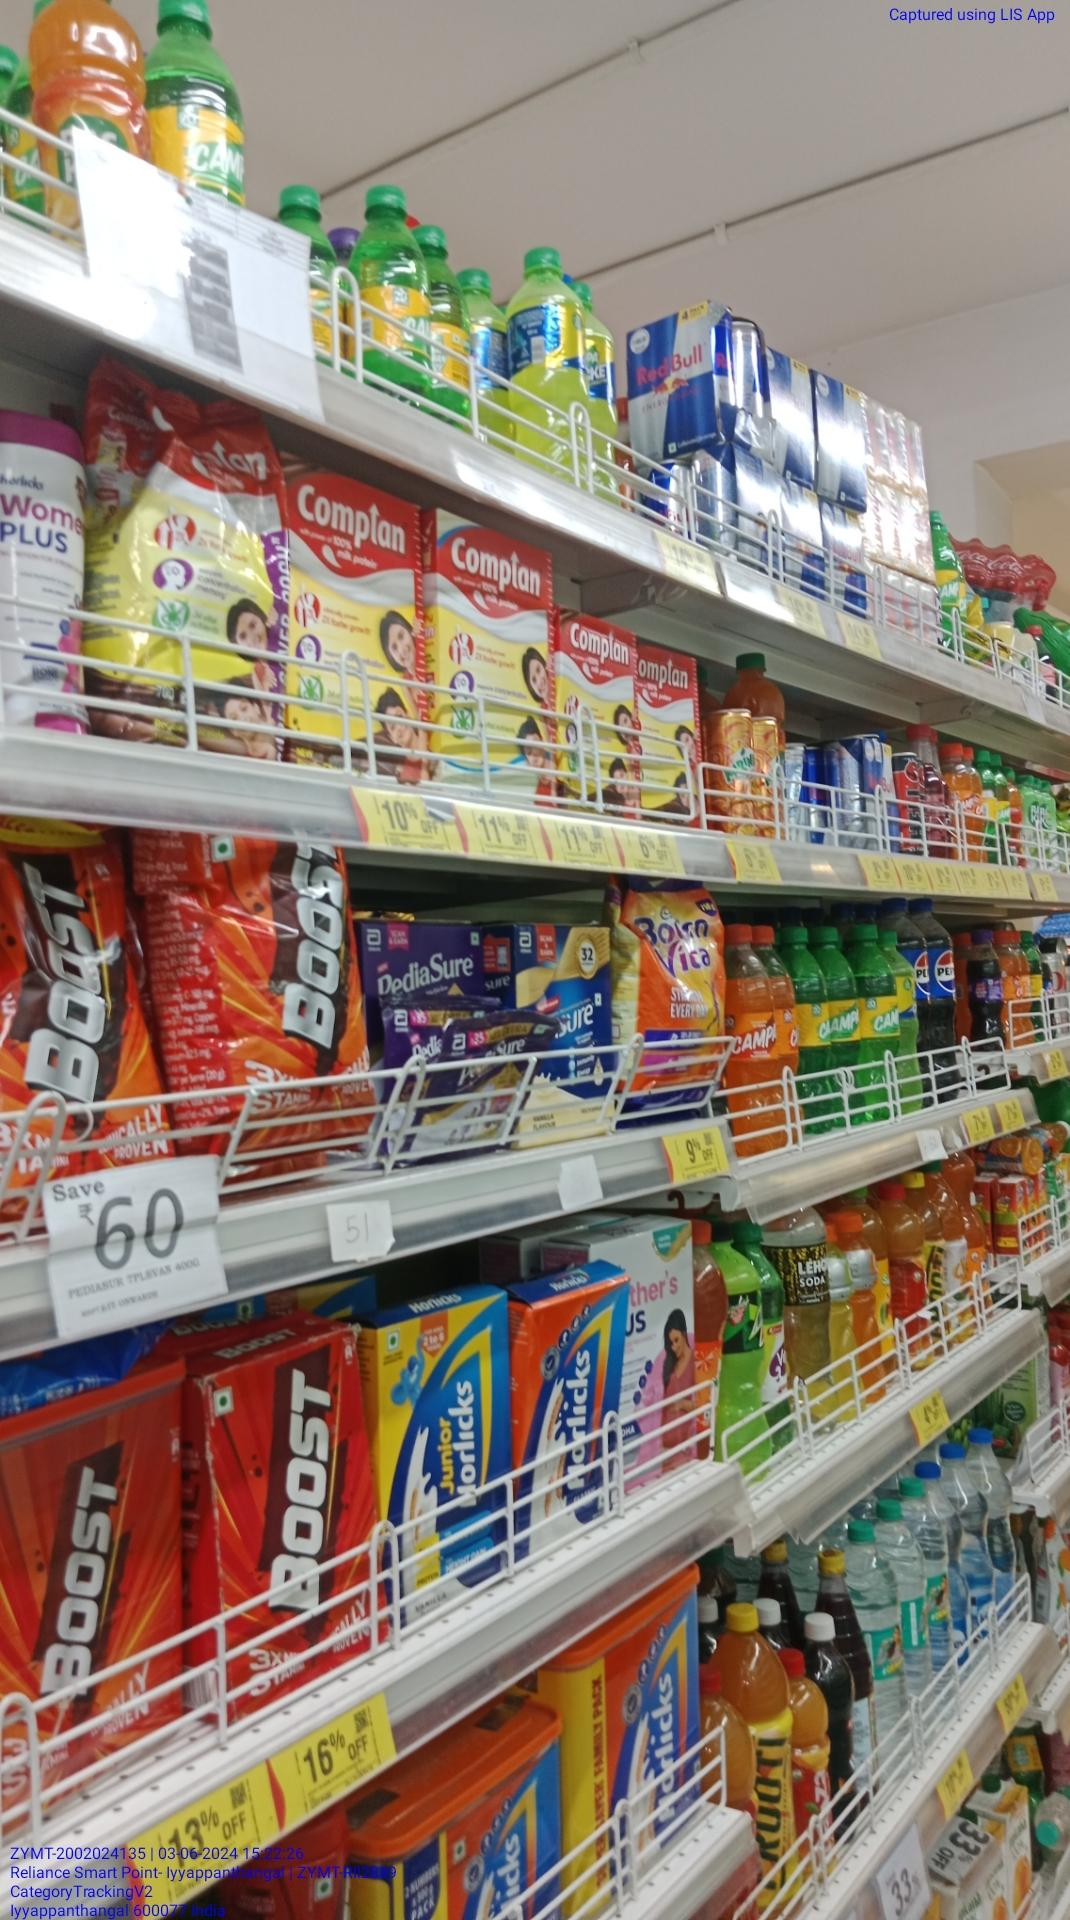BOURN_VITA_750_G_POUCH: (622, 875, 726, 1108)
COMPLAN_CHOCOLATE_200_GMS_PACK: (561, 607, 642, 812), (643, 640, 706, 822)
COMPLAN_CREAMY_CLASSIC_500_G_PACK: (440, 518, 559, 801)
COMPLAN_RC_POUCH_700_GMS_12: (92, 380, 287, 758)
ENSURE_VANILLA_400_G_PACK: (514, 925, 613, 1139)
HORLICK_CLASSIC_MALT_500_G_PACK: (522, 1297, 622, 1547)
